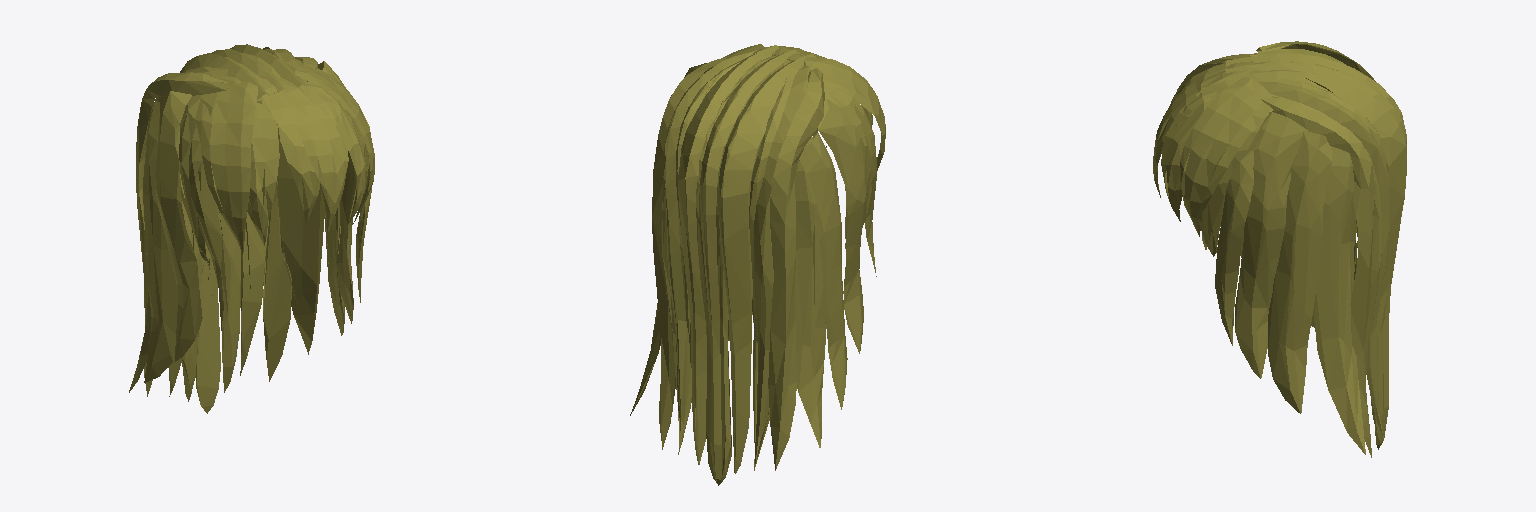
The model's file is hair3.obj.
The picture shows the model from 3 angles: view 1: azimuth 30°, elevation 25°; view 2: azimuth 150°, elevation 25°; view 3: azimuth 270°, elevation 25°; orthographic projection.
Visible parts, largest first — view 1: hair3; view 2: hair3; view 3: hair3.
Part boxes in pixels (bbox=[...]): hair3: bbox=[129, 44, 374, 413]; hair3: bbox=[630, 44, 885, 485]; hair3: bbox=[1153, 41, 1406, 457].
Size of the model in its own units: 0.2916 by 0.5609 by 0.3334.